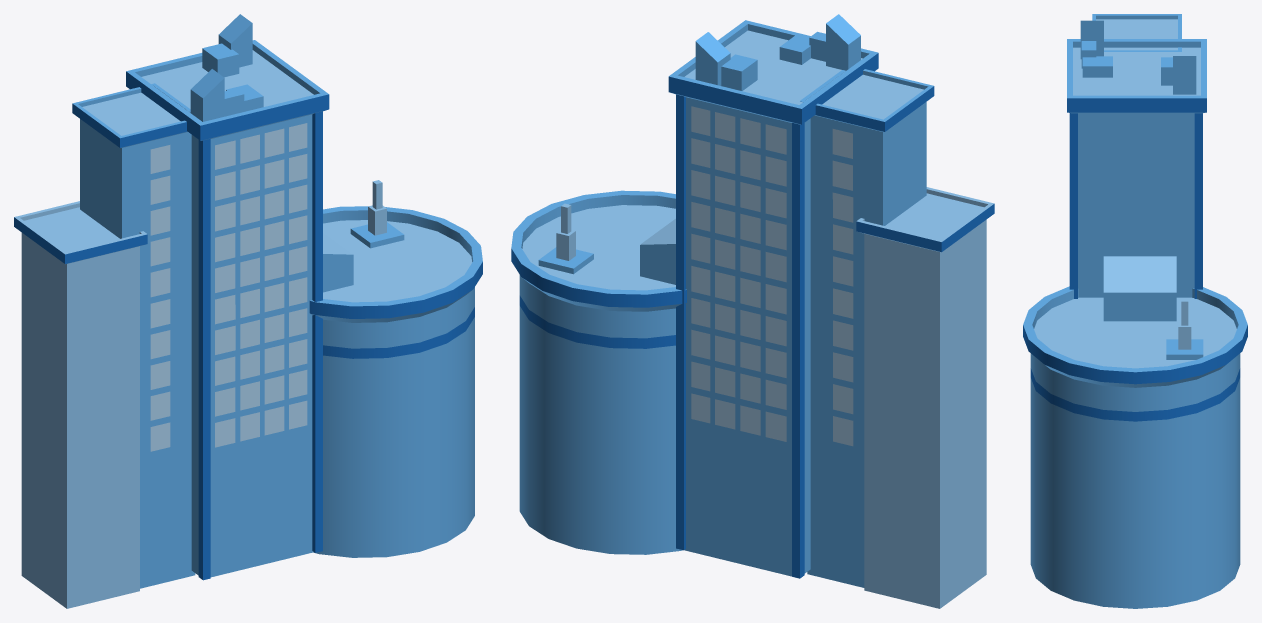
Rendered from house_4wind.fbx.
3 renders of one model, left to right at view 1: azimuth 30°, elevation 25°; view 2: azimuth 150°, elevation 25°; view 3: azimuth 270°, elevation 25°, orthographic. The views are drawn at different scales.
Parts seen in each view (by area): view 1: house_4wind; view 2: house_4wind; view 3: house_4wind.
Boxes of the visible parts, <box> form: house_4wind: <box>14,14,482,608</box>; house_4wind: <box>511,14,994,608</box>; house_4wind: <box>1023,14,1247,608</box>.
Size of the model in its own units: 230 by 257 by 111.
